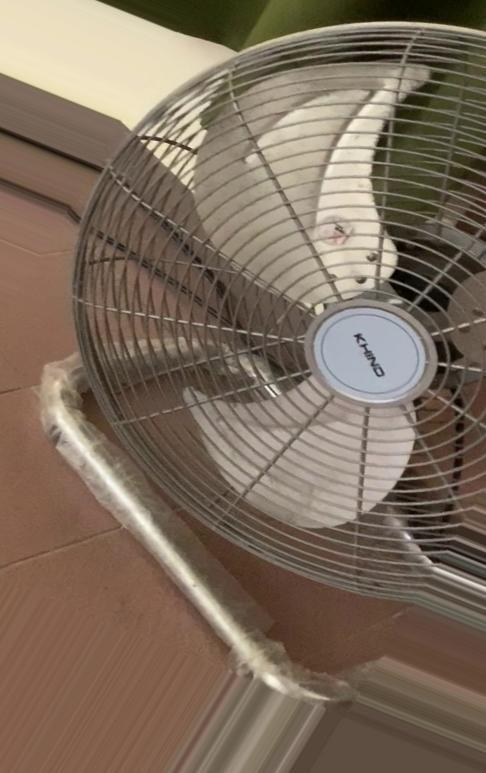fan: (12, 0, 486, 773)
